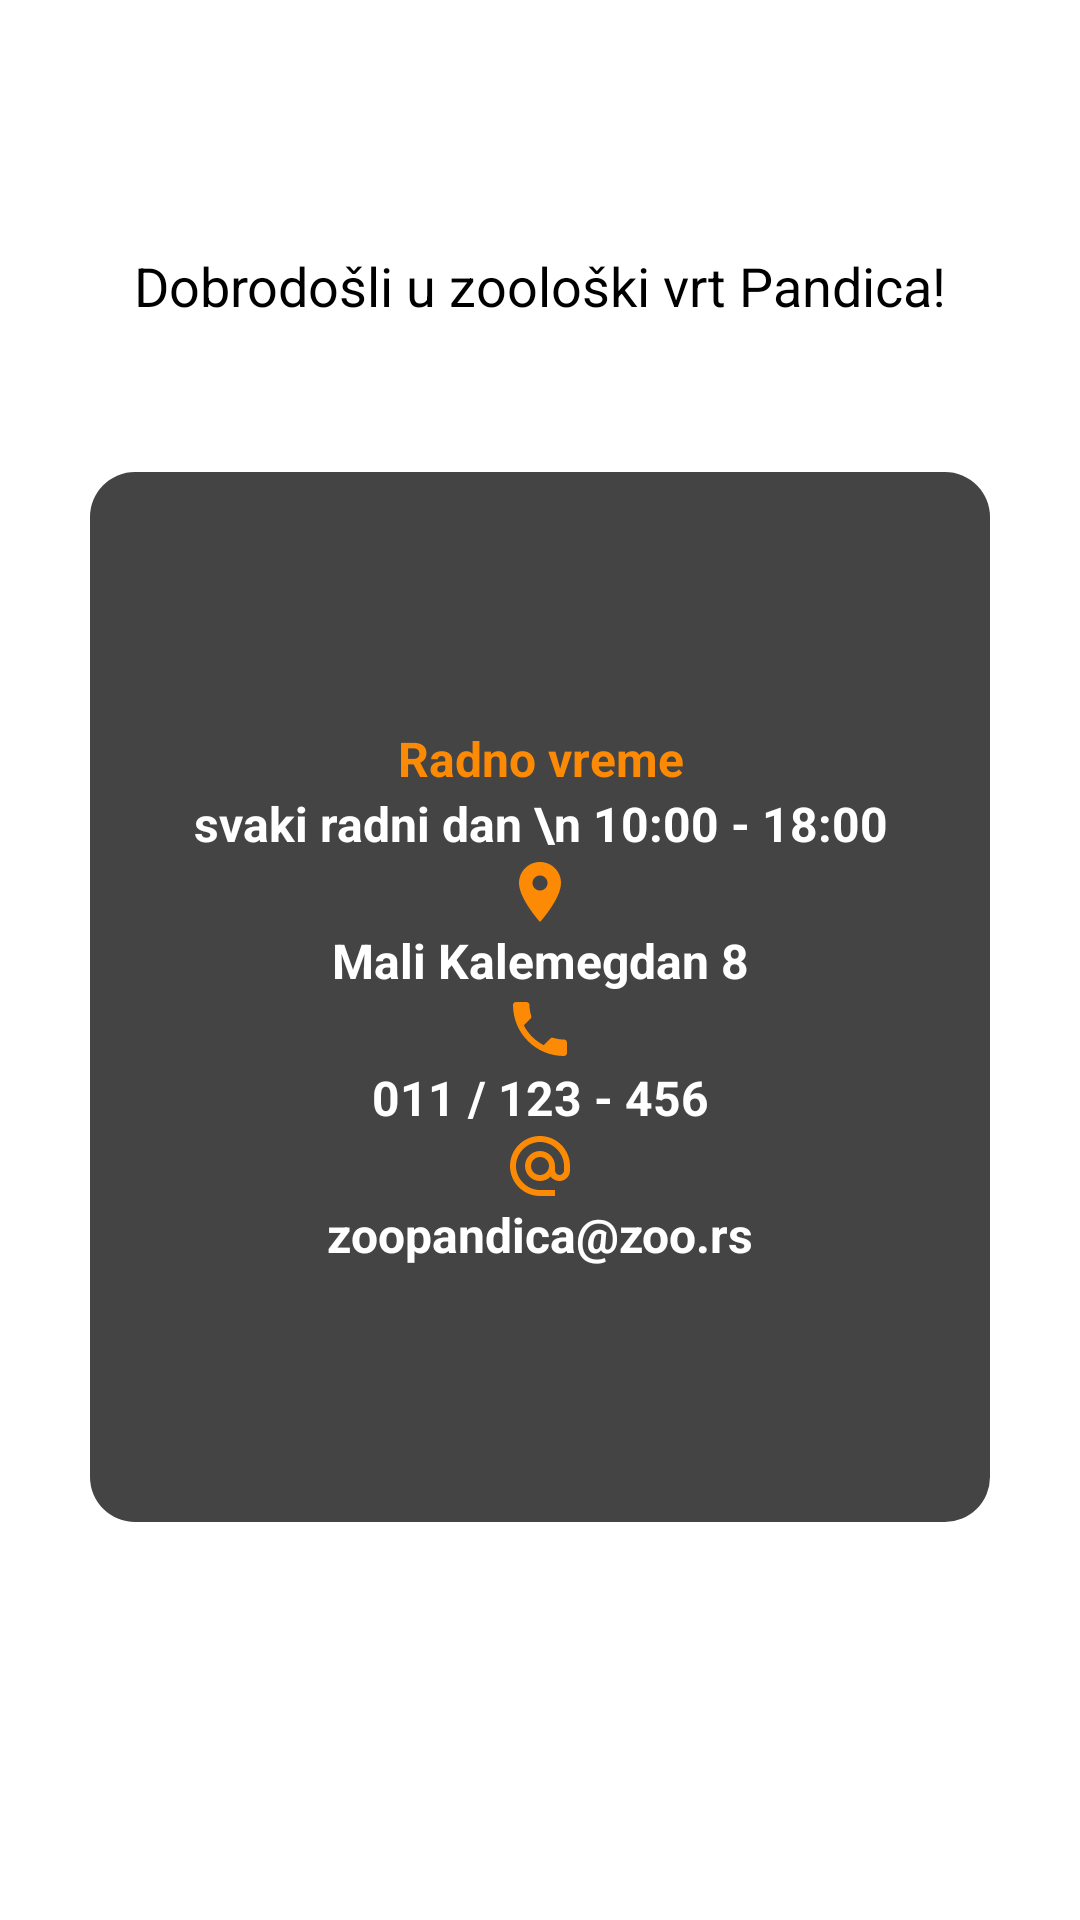

Point at icon controls on the screen. Image size 1080px x 1920px, points as point (x, y).
alternate email: point (540, 1166)
location on: point (540, 892)
phone: point (540, 1029)
